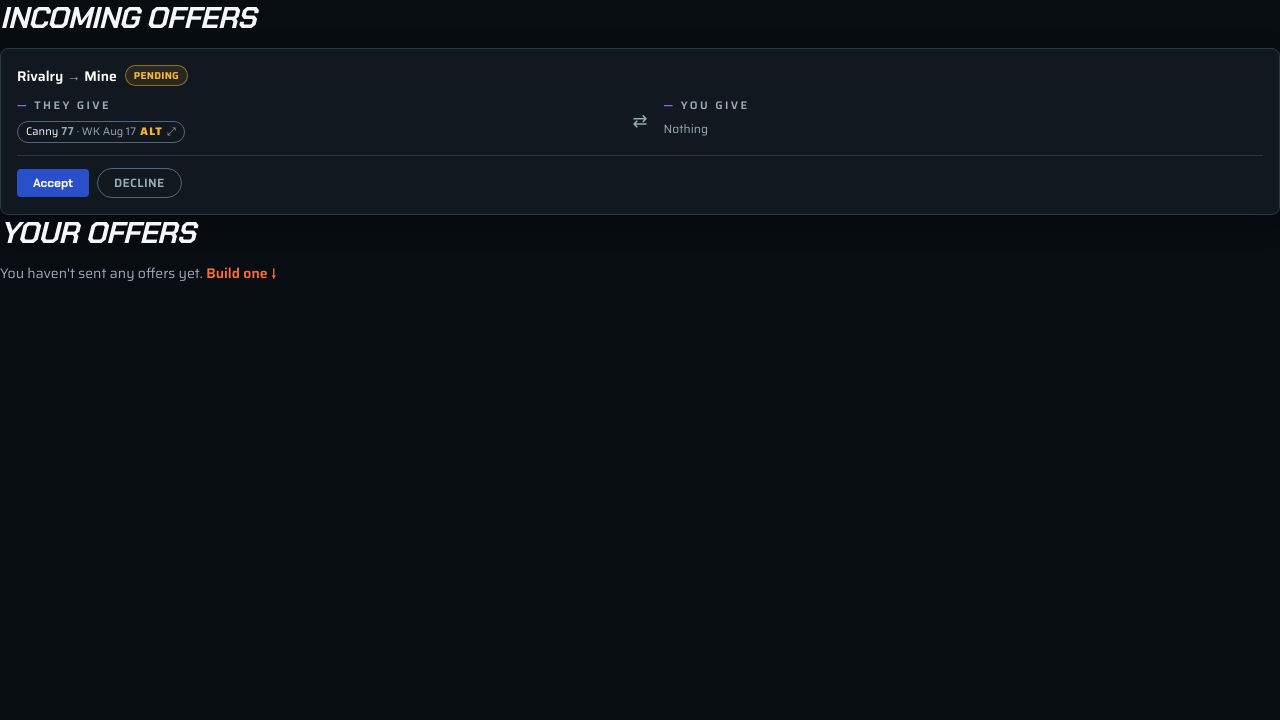
Test: TradeInbox › opens the exact copy behind a chip, and closes again
Click the button with aria-label "View Canny 77 WK Aug 17 card" at (101, 132), box [17,120,185,143]
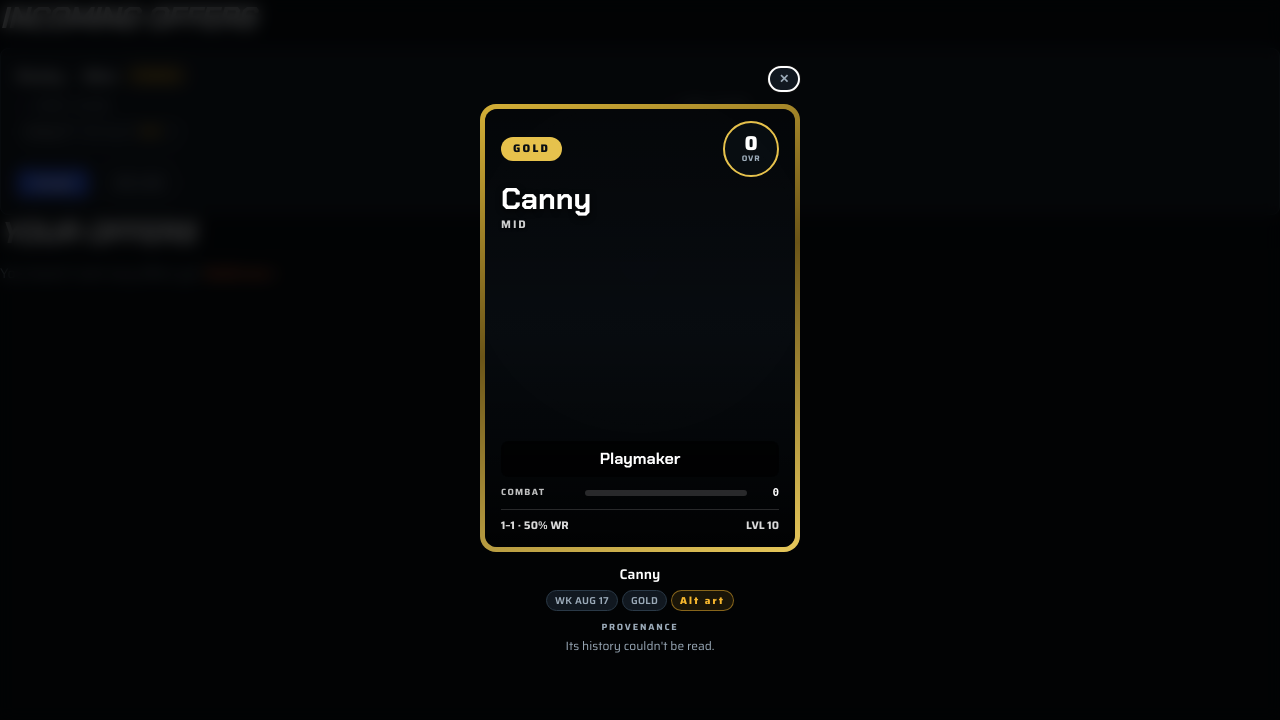
Result: the dialog named "Canny — card preview" is shown
Result: the button with aria-label "Canny player card" is shown at [480,104,800,552]
Press Escape
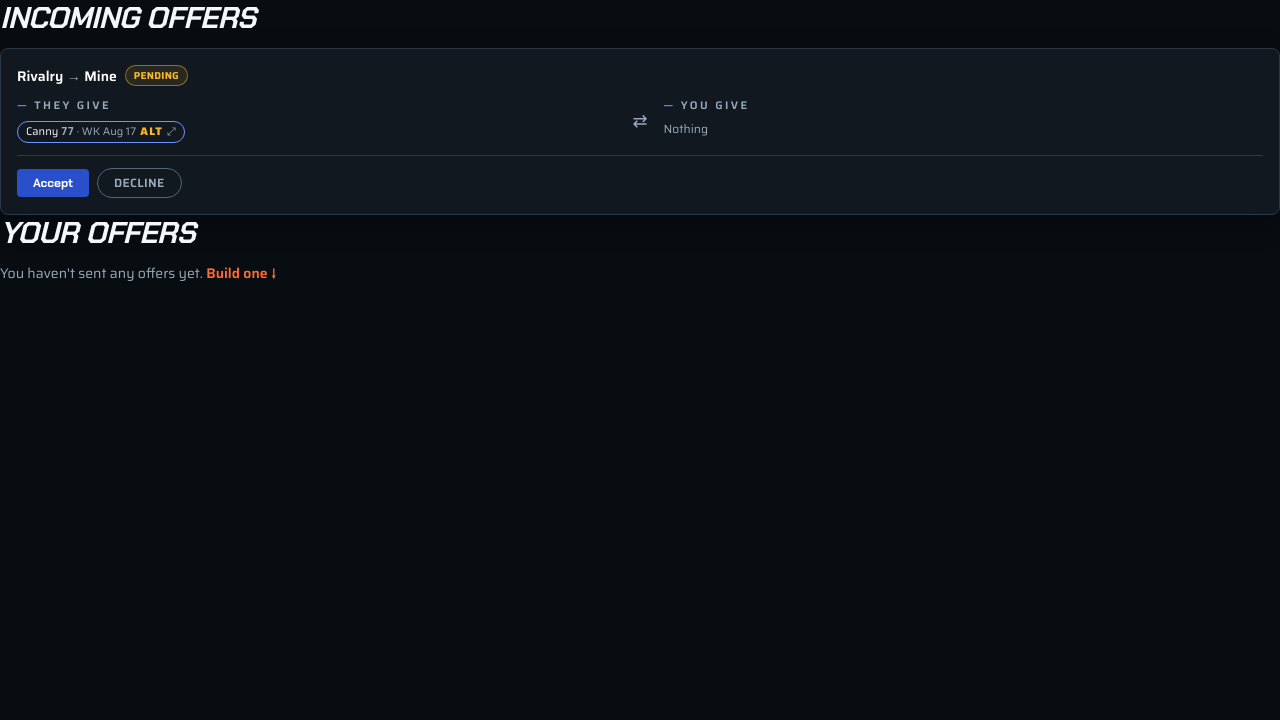
Result: the dialog is gone
